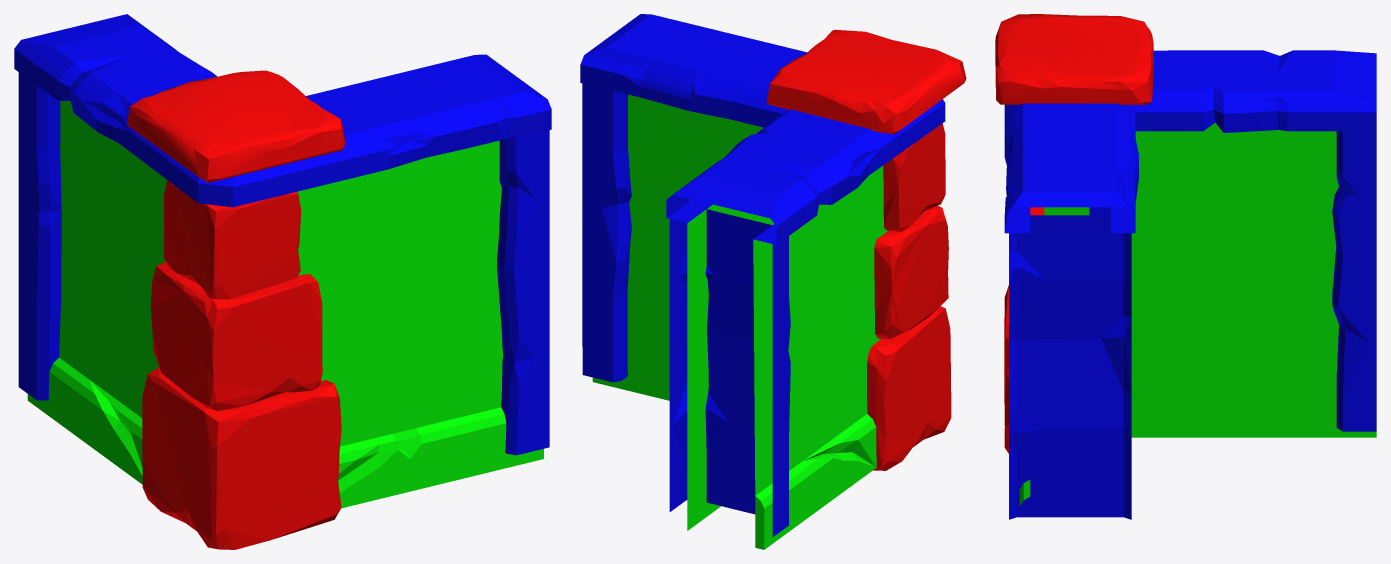
File: dungeon_wall_interiorCorner.fbx
3 views of the same model, side by side, from view 1: azimuth 30°, elevation 25°; view 2: azimuth 150°, elevation 25°; view 3: azimuth 270°, elevation 25° (orthographic). The views are drawn at different scales.
Parts seen in each view (by area): view 1: dungeon_wall_interiorCorner; view 2: dungeon_wall_interiorCorner; view 3: dungeon_wall_interiorCorner.
Boxes of the visible parts, box(x1,y1,x2,y2) form: dungeon_wall_interiorCorner: box(14, 14, 551, 549); dungeon_wall_interiorCorner: box(580, 14, 966, 549); dungeon_wall_interiorCorner: box(995, 14, 1376, 519).
Bounding box in the file's own units: 125 × 124 × 138.
